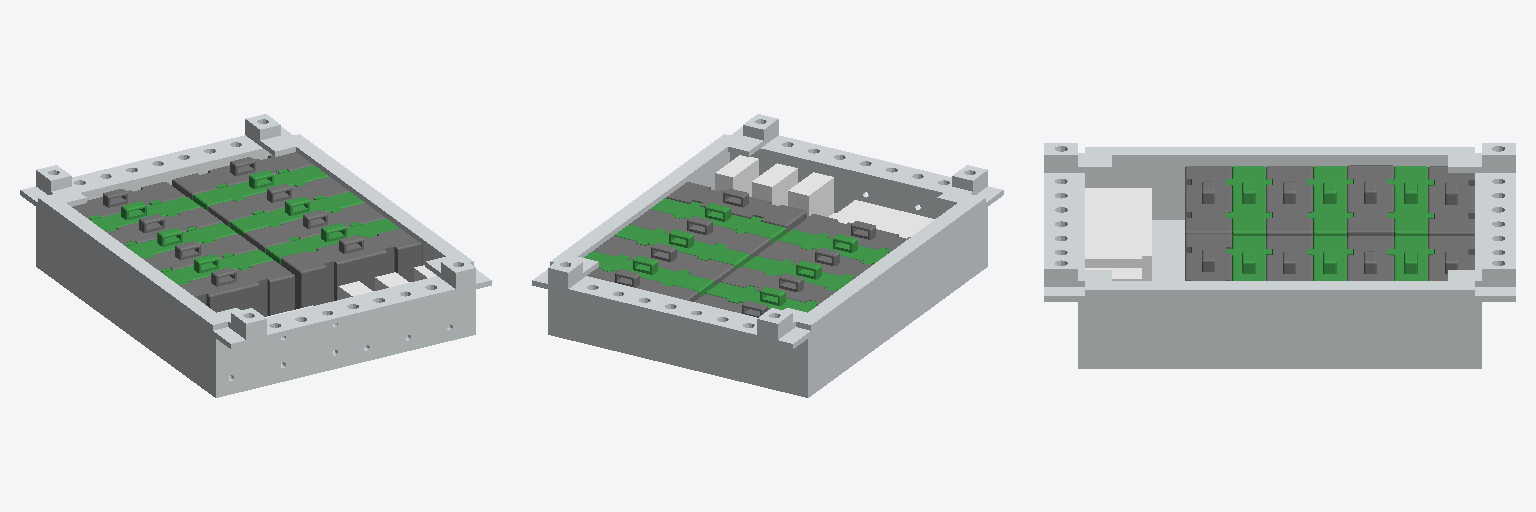
robot.urdf — Assem_battery:
<?xml version="1.0" encoding="utf-8"?>
<!-- This URDF was automatically created by SolidWorks to URDF Exporter! Originally created by [author] ([email redacted]) 
     Commit Version: 1.6.0-4-g7f85cfe  Build Version: 1.6.7995.38578
     For more information, please see http://wiki.ros.org/sw_urdf_exporter -->
<robot
  name="Assem_battery">
  <link
    name="base_link">
    <inertial>
      <origin
        xyz="0.18931 -0.5281 0.24946"
        rpy="0 0 0" />
      <mass
        value="18.2" />
      <inertia
        ixx="0.78916"
        ixy="3.3747E-05"
        ixz="-2.8986E-05"
        iyy="0.40201"
        iyz="3.3994E-05"
        izz="1.1482" />
    </inertial>
    <visual>
      <origin
        xyz="0 0 0"
        rpy="0 0 0" />
      <geometry>
        <mesh
          filename="package://Assem_battery/meshes/base_link.STL" />
      </geometry>
      <material
        name="">
        <color
          rgba="0.89804 0.92157 0.92941 1" />
      </material>
    </visual>
    <collision>
      <origin
        xyz="0 0 0"
        rpy="0 0 0" />
      <geometry>
        <mesh
          filename="package://Assem_battery/meshes/base_link.STL" />
      </geometry>
    </collision>
  </link>
  <link
    name="link1">
    <inertial>
      <origin
        xyz="0.2385 -0.18946 -0.041515"
        rpy="0 0 0" />
      <mass
        value="4.9904" />
      <inertia
        ixx="0.0087078"
        ixy="-1.334E-15"
        ixz="-3.3356E-16"
        iyy="0.19998"
        iyz="1.4532E-16"
        izz="0.1942" />
    </inertial>
    <visual>
      <origin
        xyz="0 0 0"
        rpy="0 0 0" />
      <geometry>
        <mesh
          filename="package://Assem_battery/meshes/link1.STL" />
      </geometry>
      <material
        name="">
        <color
          rgba="0.89804 0.92157 0.92941 1" />
      </material>
    </visual>
    <collision>
      <origin
        xyz="0 0 0"
        rpy="0 0 0" />
      <geometry>
        <mesh
          filename="package://Assem_battery/meshes/link1.STL" />
      </geometry>
    </collision>
  </link>
  <joint
    name="joint1"
    type="prismatic">
    <origin
      xyz="0 -0.29818 0.2703"
      rpy="3.1416 0 -1.5708" />
    <parent
      link="base_link" />
    <child
      link="link1" />
    <axis
      xyz="0 1 0" />
    <limit
      lower="0"
      upper="0"
      effort="0"
      velocity="0" />
  </joint>
  <link
    name="green">
    <inertial>
      <origin
        xyz="0.070146 0.050465 0.19008"
        rpy="0 0 0" />
      <mass
        value="5.942" />
      <inertia
        ixx="0.02955"
        ixy="-1.2853E-06"
        ixz="-1.0246E-09"
        iyy="0.02742"
        iyz="1.2909E-06"
        izz="0.0048096" />
    </inertial>
    <visual>
      <origin
        xyz="0 0 0"
        rpy="0 0 0" />
      <geometry>
        <mesh
          filename="package://Assem_battery/meshes/green.STL" />
      </geometry>
      <material
        name="">
        <color
          rgba="0.28627 0.66275 0.32941 1" />
      </material>
    </visual>
    <collision>
      <origin
        xyz="0 0 0"
        rpy="0 0 0" />
      <geometry>
        <mesh
          filename="package://Assem_battery/meshes/green.STL" />
      </geometry>
    </collision>
  </link>
  <joint
    name="joint2"
    type="prismatic">
    <origin
      xyz="0.37923 -0.39217 0.23861"
      rpy="1.5708 0 -1.5708" />
    <parent
      link="base_link" />
    <child
      link="green" />
    <axis
      xyz="0 1 0" />
    <limit
      lower="0"
      upper="0"
      effort="0"
      velocity="0" />
  </joint>
  <link
    name="black">
    <inertial>
      <origin
        xyz="-0.0876917083020671 0.0465015860845964 0.189423452043824"
        rpy="0 0 0" />
      <mass
        value="11.5463554229197" />
      <inertia
        ixx="0.0123443268685222"
        ixy="8.84564388500147E-19"
        ixz="-3.17291722971286E-18"
        iyy="0.0577965429485108"
        iyz="2.15572763286427E-19"
        izz="0.0613893205322151" />
    </inertial>
    <visual>
      <origin
        xyz="0 0 0"
        rpy="0 0 0" />
      <geometry>
        <mesh
          filename="package://Assem_battery/meshes/black.STL" />
      </geometry>
      <material
        name="">
        <color
          rgba="0.498039215686275 0.498039215686275 0.498039215686275 1" />
      </material>
    </visual>
    <collision>
      <origin
        xyz="0 0 0"
        rpy="0 0 0" />
      <geometry>
        <mesh
          filename="package://Assem_battery/meshes/black.STL" />
      </geometry>
    </collision>
  </link>
  <joint
    name="joint3"
    type="prismatic">
    <origin
      xyz="0.27684 -0.2727 0.23768"
      rpy="1.5708 0 0" />
    <parent
      link="base_link" />
    <child
      link="black" />
    <axis
      xyz="0 1 0" />
    <limit
      lower="0"
      upper="0"
      effort="0"
      velocity="0" />
  </joint>
  <link
    name="white">
    <inertial>
      <origin
        xyz="-0.124792038718223 0.0352057092984573 -0.0172713604101973"
        rpy="0 0 0" />
      <mass
        value="0.463533896096077" />
      <inertia
        ixx="0.000732190638833217"
        ixy="5.22431844154991E-05"
        ixz="-2.31701137971287E-07"
        iyy="0.00238117015946222"
        iyz="-6.20330939314216E-07"
        izz="0.00239583984107389" />
    </inertial>
    <visual>
      <origin
        xyz="0 0 0"
        rpy="0 0 0" />
      <geometry>
        <mesh
          filename="package://Assem_battery/meshes/white.STL" />
      </geometry>
      <material
        name="">
        <color
          rgba="1 1 1 1" />
      </material>
    </visual>
    <collision>
      <origin
        xyz="0 0 0"
        rpy="0 0 0" />
      <geometry>
        <mesh
          filename="package://Assem_battery/meshes/white.STL" />
      </geometry>
    </collision>
  </link>
  <joint
    name="joint4"
    type="prismatic">
    <origin
      xyz="0.18914 -0.76697 0.23861"
      rpy="1.5708 0 -3.1416" />
    <parent
      link="base_link" />
    <child
      link="white" />
    <axis
      xyz="1 0 0" />
    <limit
      lower="0"
      upper="0"
      effort="0"
      velocity="0" />
  </joint>
  <link
    name="brown">
    <inertial>
      <origin
        xyz="0 0 0"
        rpy="0 0 0" />
      <mass
        value="0" />
      <inertia
        ixx="0"
        ixy="0"
        ixz="0"
        iyy="0"
        iyz="0"
        izz="0" />
    </inertial>
    <visual>
      <origin
        xyz="0 0 0"
        rpy="0 0 0" />
      <geometry>
        <mesh
          filename="package://Assem_battery/meshes/brown.STL" />
      </geometry>
      <material
        name="">
        <color
          rgba="1 1 1 1" />
      </material>
    </visual>
    <collision>
      <origin
        xyz="0 0 0"
        rpy="0 0 0" />
      <geometry>
        <mesh
          filename="package://Assem_battery/meshes/brown.STL" />
      </geometry>
    </collision>
  </link>
  <joint
    name="joint5"
    type="fixed">
    <origin
      xyz="0.0237355051694817 -0.794031907972578 0.238614476251022"
      rpy="1.5707963267949 0 0" />
    <parent
      link="base_link" />
    <child
      link="brown" />
    <axis
      xyz="0 0 0" />
  </joint>
</robot>

--- Facts derived from the render (not from the file) ---
3 views of the same robot in one strip: view 1: azimuth 30°, elevation 25°; view 2: azimuth 150°, elevation 25°; view 3: azimuth 270°, elevation 25° (orthographic).
Model Assem_battery with 6 links and 5 joints (4 prismatic, 1 fixed), rooted at base_link, posed every joint at zero.
Links seen in each view (by area): view 1: base_link, black, link1, green, white; view 2: base_link, link1, black, green, white, brown; view 3: link1, black, base_link, green, brown, white.
Boxes of the visible links, bbox=[...] form: base_link: bbox=[20, 127, 491, 397]; black: bbox=[72, 152, 422, 316]; link1: bbox=[36, 114, 475, 387]; green: bbox=[88, 166, 398, 284]; white: bbox=[338, 265, 449, 347]; base_link: bbox=[532, 127, 1003, 397]; link1: bbox=[548, 114, 987, 387]; black: bbox=[587, 182, 910, 317]; green: bbox=[584, 198, 890, 312]; white: bbox=[715, 155, 836, 217]; brown: bbox=[831, 200, 934, 238]; link1: bbox=[1044, 143, 1515, 359]; black: bbox=[1185, 165, 1474, 280]; base_link: bbox=[1044, 153, 1515, 368]; green: bbox=[1226, 166, 1433, 280]; brown: bbox=[1085, 188, 1151, 280]; white: bbox=[1085, 248, 1141, 280].
Bounding box of the posed robot: 0.5022 × 0.7 × 0.15 m (x, y, z).
6 mesh visuals loaded from 6 distinct referenced files (6 binary STL).